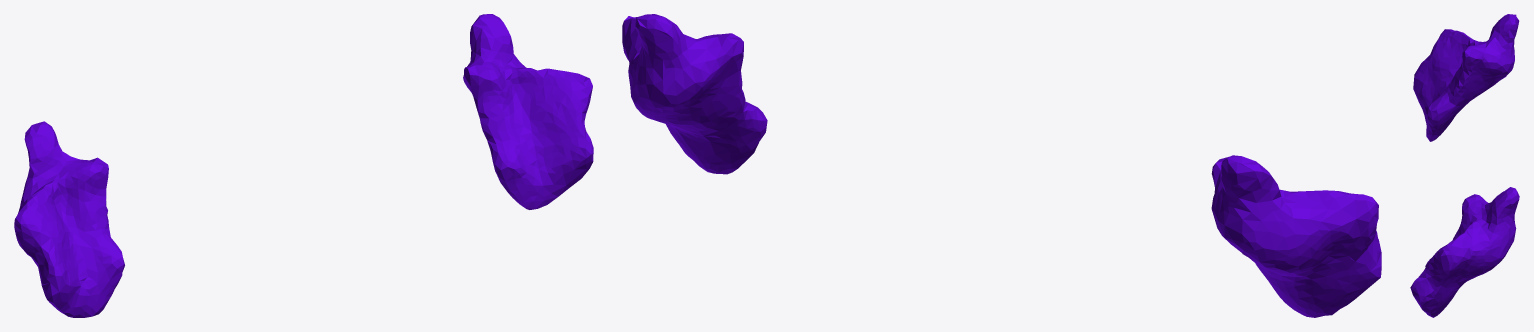
File: 172-FST-fundus of superior temporal sulcus-('0.4588', '0.0000', '1.0000').obj
3 views of the same model, side by side, from view 1: azimuth 30°, elevation 25°; view 2: azimuth 150°, elevation 25°; view 3: azimuth 270°, elevation 25° (orthographic). The views are drawn at different scales.
Size of the model in its own units: 328 by 85.85 by 67.62.
